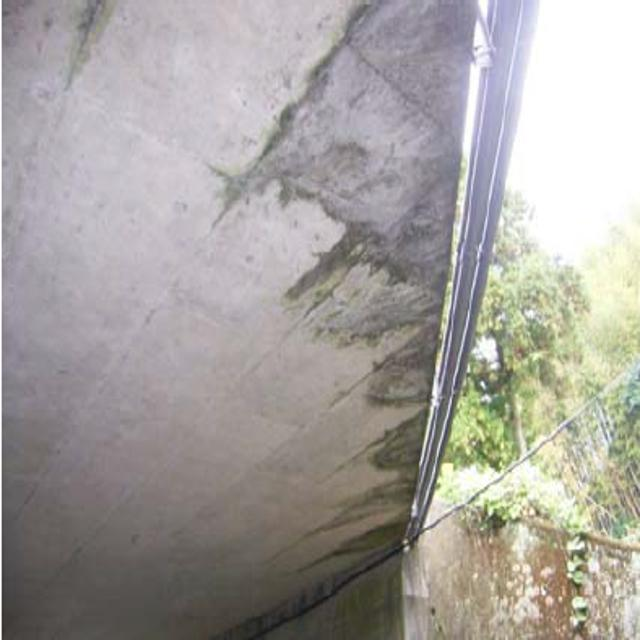leakage: (330, 6, 483, 551)
